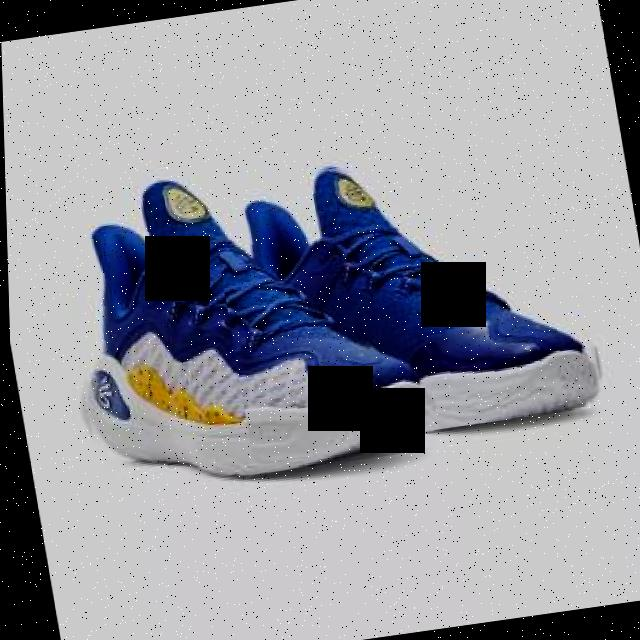shoe: (42, 146, 436, 497), (204, 130, 608, 456)
